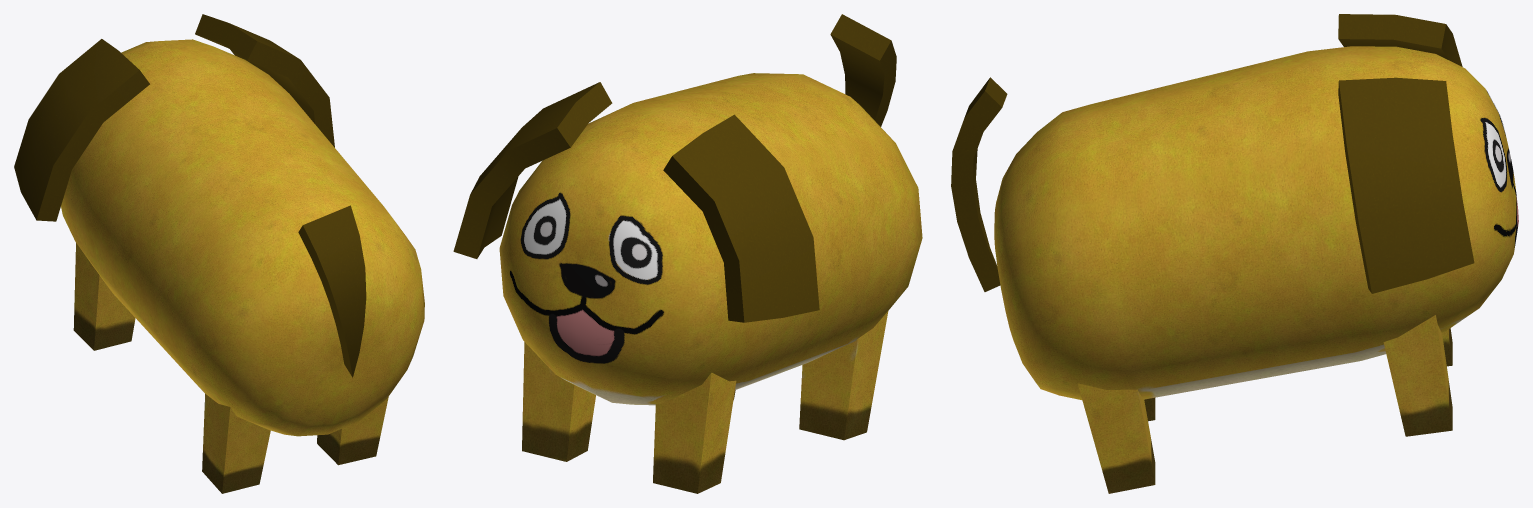
The model's file is jump1.FBX.
3 renders of one model, left to right at view 1: azimuth 30°, elevation 25°; view 2: azimuth 150°, elevation 25°; view 3: azimuth 270°, elevation 25°, orthographic. The views are drawn at different scales.
Parts seen in each view (by area): view 1: jump1; view 2: jump1; view 3: jump1.
Boxes of the visible parts, x1,y1,x2,y2 form: jump1: [14, 14, 424, 493]; jump1: [453, 14, 922, 493]; jump1: [951, 14, 1518, 493].
Size of the model in its own units: 31.62 by 35.22 by 44.94.
Materials: 1 (1 with a texture image).
